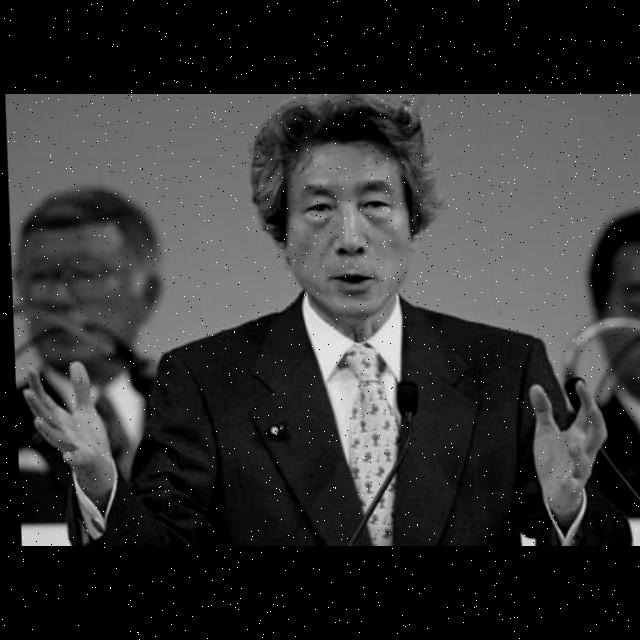face: (260, 129, 425, 325), (20, 203, 161, 372)
